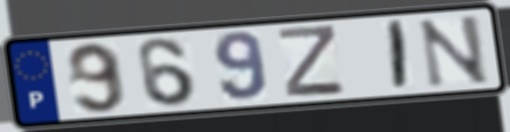6: (135, 35, 201, 111)
9: (65, 40, 128, 115), (210, 28, 270, 105)
I: (388, 18, 410, 94)
N: (415, 13, 493, 91)
Z: (275, 22, 348, 98)
